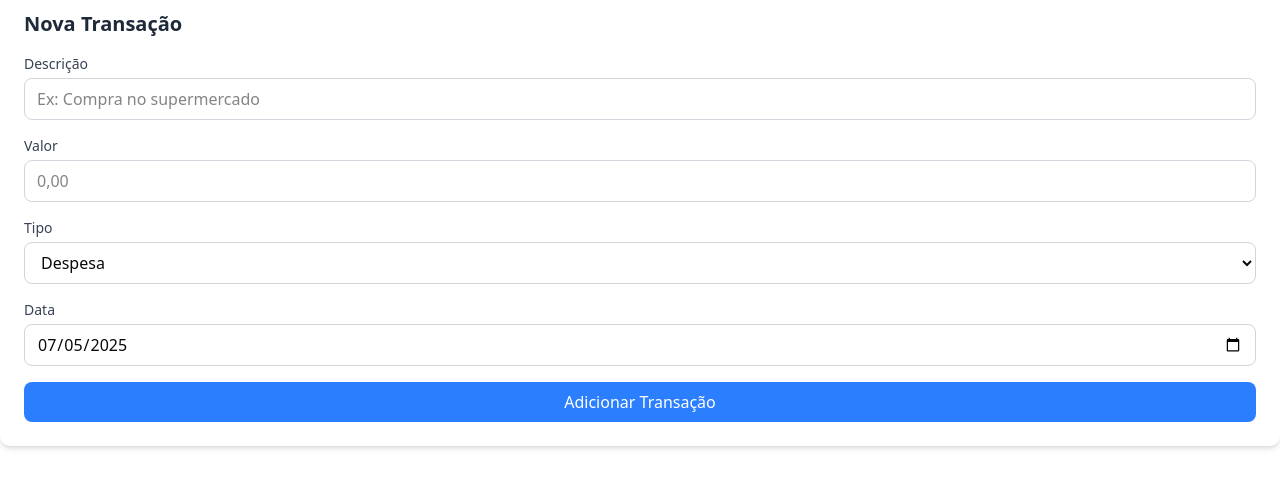
Test: TransactionForm › shows validation error for invalid amount
Type "Test transaction" into the field labelled "Descrição" at (640, 99), box [24,78,1256,120]
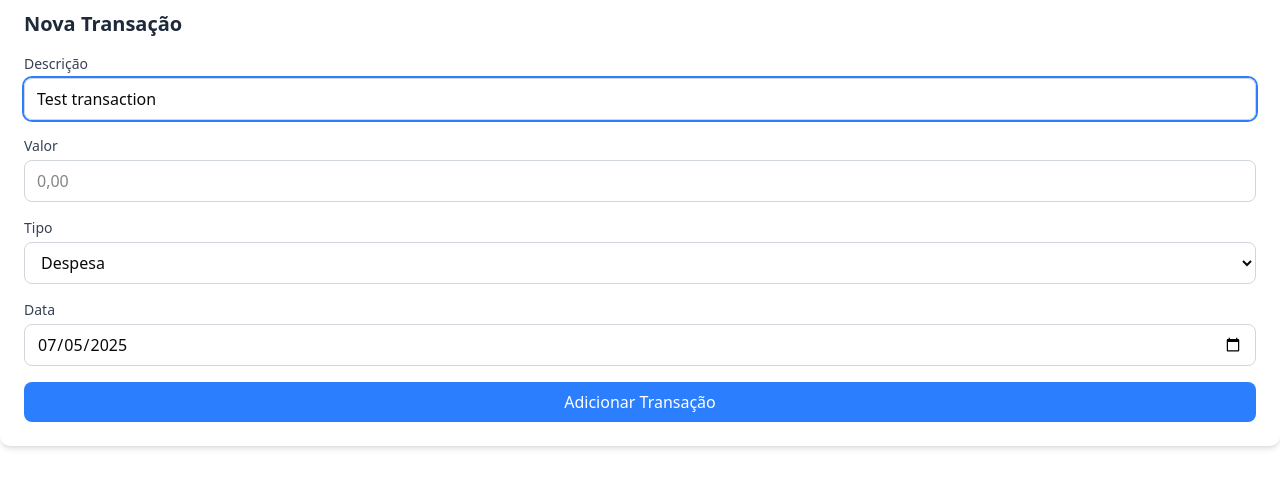
Type "0" into the number field labelled "Valor" at (640, 181), box [24,160,1256,202]
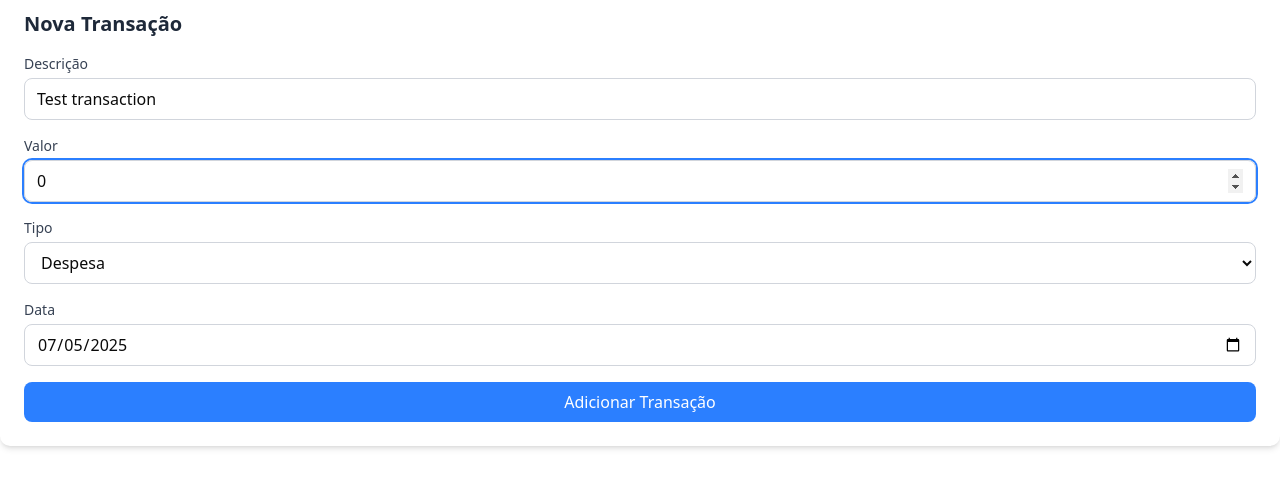
Click the button "Adicionar Transação" at (640, 402), box [24,382,1256,422]
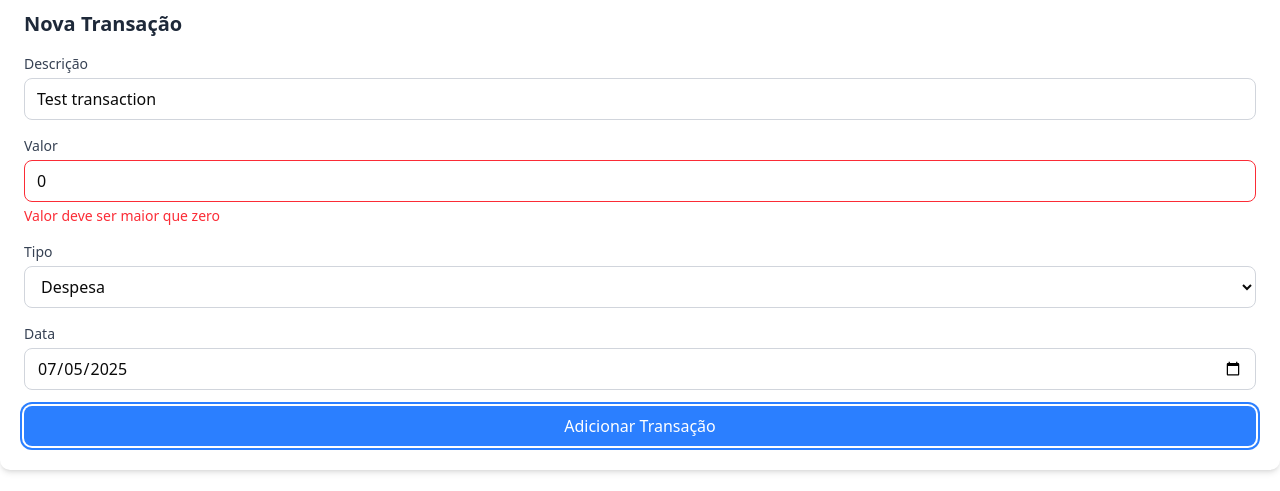
Expected: the text "Valor deve ser maior que zero" is shown, [24,206,220,225]
